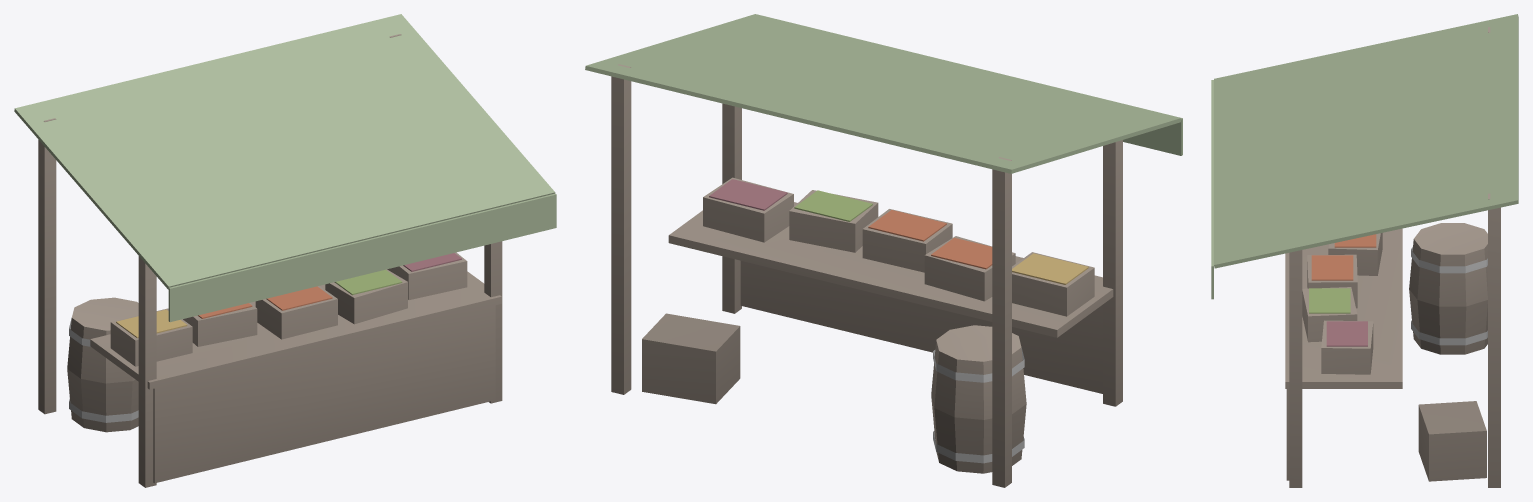
File: stall_2.glb
3 views of the same model, side by side, from view 1: azimuth 30°, elevation 25°; view 2: azimuth 150°, elevation 25°; view 3: azimuth 270°, elevation 25° (orthographic). The views are drawn at different scales.
Parts seen in each view (by area): view 1: stall_2; view 2: stall_2; view 3: stall_2.
Part boxes in pixels (x1,y1,x2,y2): stall_2: (14, 14, 556, 487); stall_2: (585, 14, 1182, 487); stall_2: (1211, 14, 1518, 487).
Bounding box in the file's own units: 3.39 × 2.5 × 2.36.
